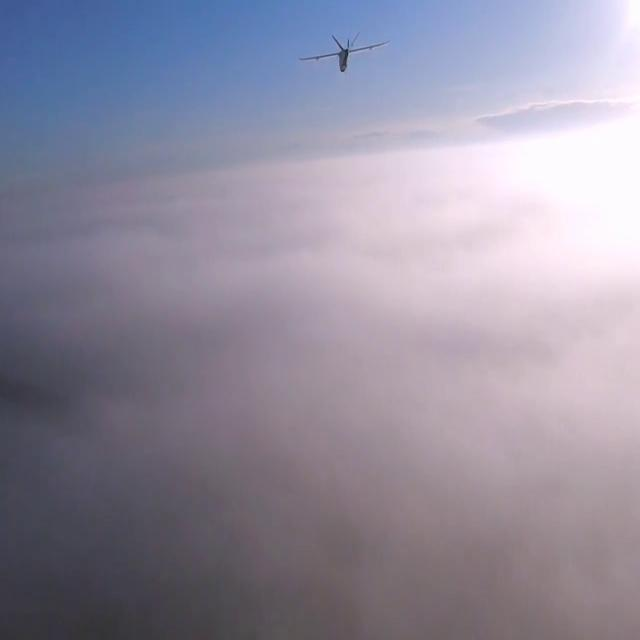iha: (331, 32, 359, 76)
